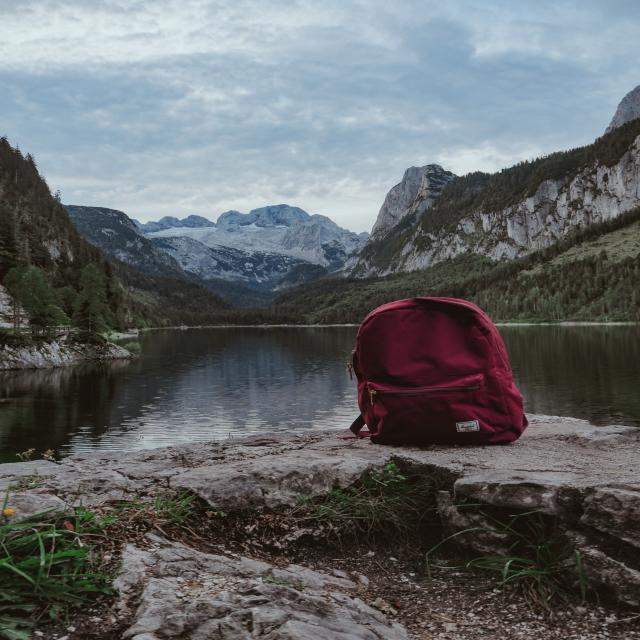backpack: (352, 296, 524, 450)
